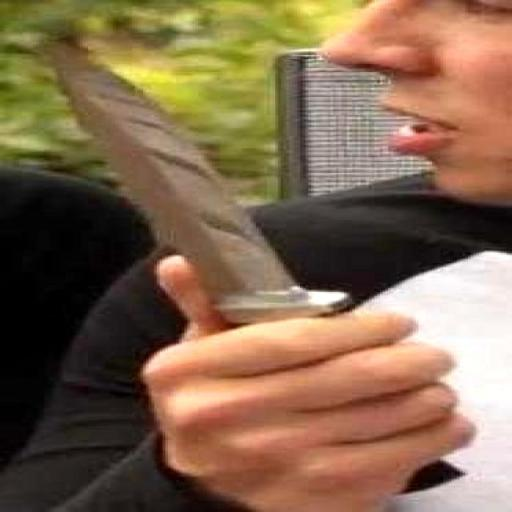knife: (41, 30, 487, 504)
